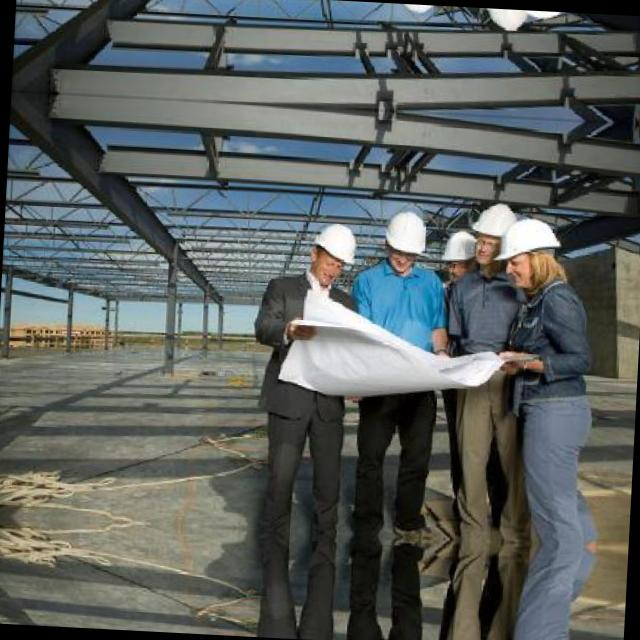helmet: (498, 216, 564, 286), (308, 219, 357, 287), (471, 198, 517, 266), (382, 208, 430, 272), (442, 228, 479, 279), (483, 8, 529, 34)
